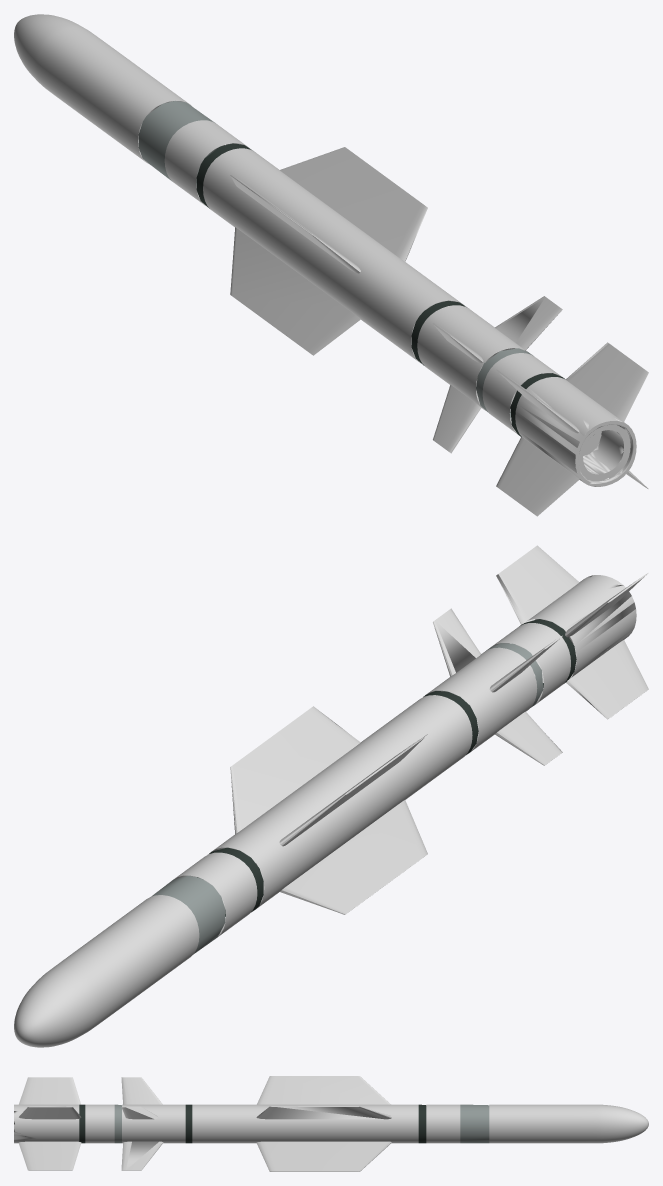
File: w_slam.glb
The picture shows the model from 3 angles, top to bottom: view 1: azimuth 30°, elevation 25°; view 2: azimuth 150°, elevation 25°; view 3: azimuth 270°, elevation 25°; orthographic projection. The views are drawn at different scales.
Visible parts, largest first — view 1: body|UGM-84_HARPOON, body|FERISECAT_ARMY, body|MADE_BY_FERISECAT; view 2: body|UGM-84_HARPOON, body|FERISECAT_ARMY, body|MADE_BY_FERISECAT; view 3: body|UGM-84_HARPOON, body|FERISECAT_ARMY, body|MADE_BY_FERISECAT.
Boxes of the visible parts, <box> form: body|UGM-84_HARPOON: <box>14,14,648,516</box>; body|FERISECAT_ARMY: <box>138,101,541,418</box>; body|MADE_BY_FERISECAT: <box>196,143,565,436</box>; body|UGM-84_HARPOON: <box>14,545,648,1047</box>; body|FERISECAT_ARMY: <box>151,643,543,954</box>; body|MADE_BY_FERISECAT: <box>197,619,576,916</box>; body|UGM-84_HARPOON: <box>14,1076,648,1171</box>; body|FERISECAT_ARMY: <box>114,1104,489,1143</box>; body|MADE_BY_FERISECAT: <box>79,1104,426,1143</box>.
Size of the model in its own units: 0.5101 by 0.5101 by 4.46.
3 materials, 3 textured.
